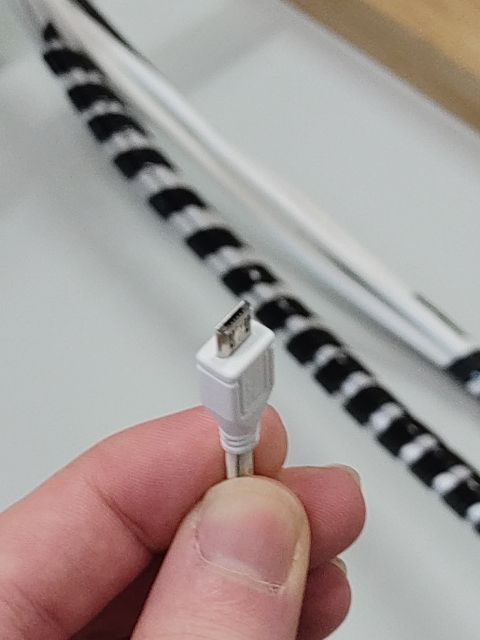Micro-USB: (214, 299, 254, 359)
